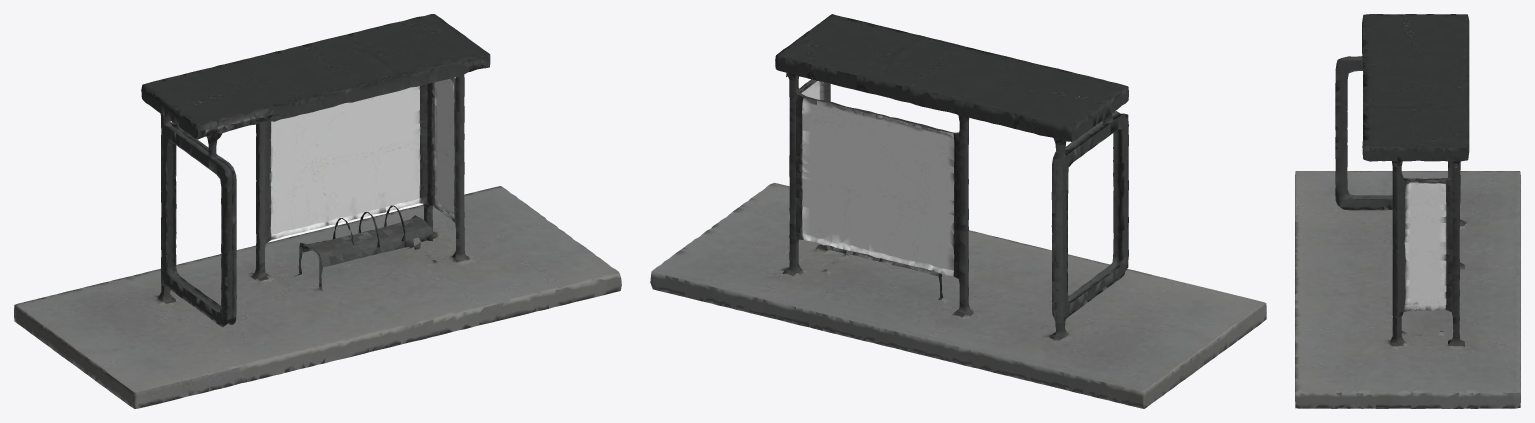
File: ponto_cidade.glb
The picture shows the model from 3 angles, left to right: view 1: azimuth 30°, elevation 25°; view 2: azimuth 150°, elevation 25°; view 3: azimuth 270°, elevation 25°; orthographic projection. The views are drawn at different scales.
Parts seen in each view (by area): view 1: mascara; view 2: mascara; view 3: mascara.
Part boxes in pixels (x1,y1,x2,y2): mascara: (14, 14, 621, 408); mascara: (650, 14, 1266, 408); mascara: (1295, 14, 1520, 408).
Size of the model in its own units: 5.56 by 2.54 by 2.39.
1 material, 1 textured.
